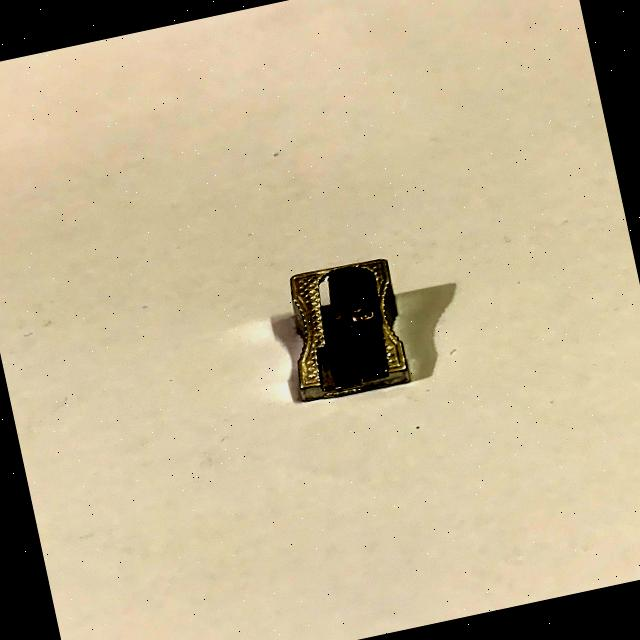Sharpner: (244, 232, 445, 422)
